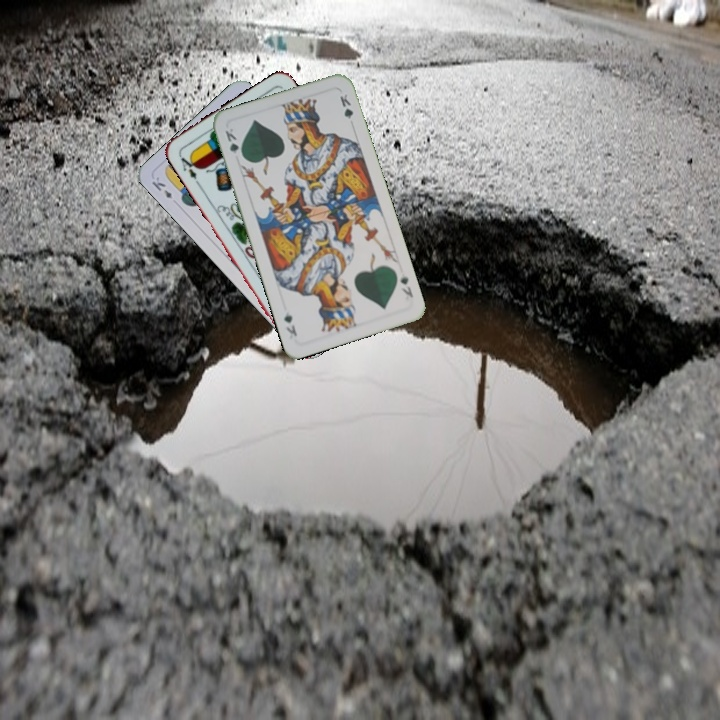EA: (175, 150, 202, 187)
EK: (148, 173, 175, 201)
GK: (221, 124, 246, 162), (396, 272, 416, 300)
